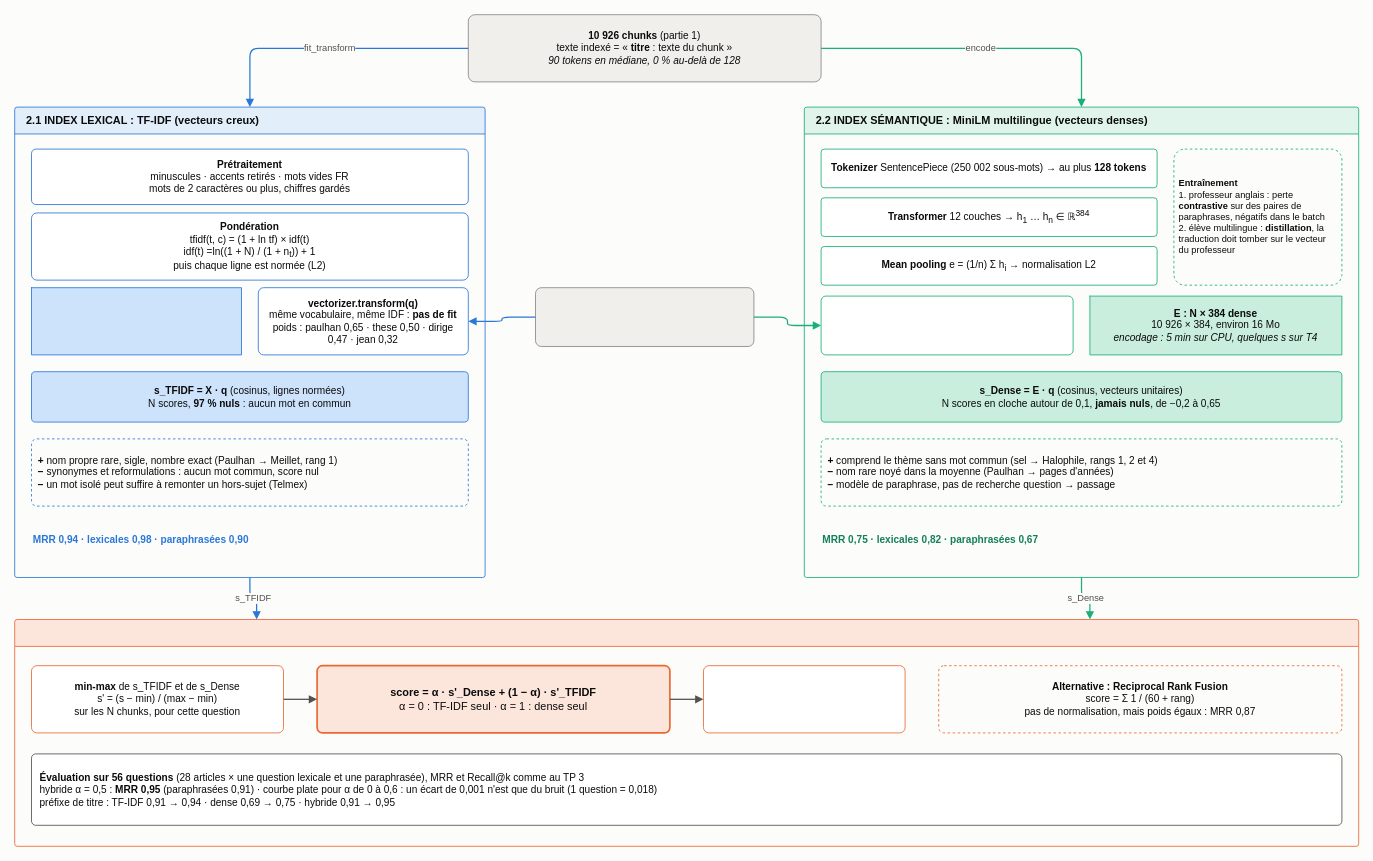
Some shapes in this 1373 by 861 pixel diagram are drawn without their labels. The shapes that lost their labels are listed below. From the top down, each one's box as (x1, y1, x2, y2) in pixels, then its label:
(31, 287, 242, 355): X : N × V creuse 10 926 × 47 867, densité 0,05 % fit en 1 s
(535, 287, 754, 346): question q « Qui a dirigé la thèse de Jean Paulhan ? »
(820, 295, 1073, 355): encodeur.encode(q) même modèle, même pooling
(703, 665, 905, 733): top-k argpartition O(N) → partie 3 (contexte du LLM)
(14, 619, 1359, 846): 2.3 FUSION HYBRIDE
